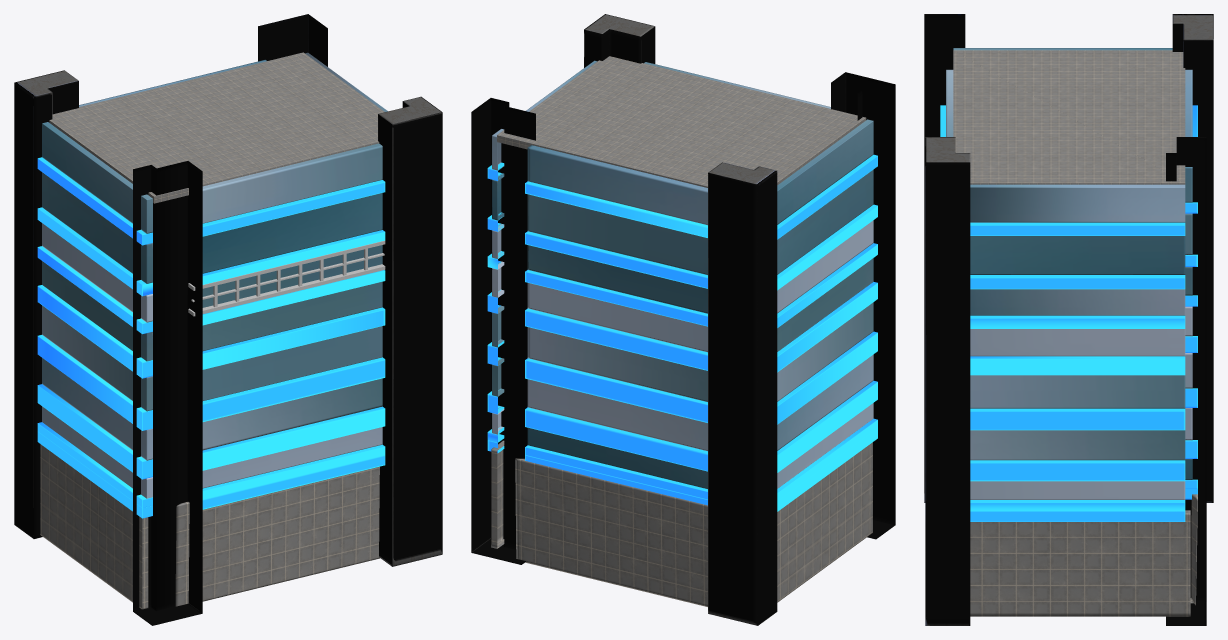
The model's file is building_test.fbx.
3 renders of one model, left to right at view 1: azimuth 30°, elevation 25°; view 2: azimuth 150°, elevation 25°; view 3: azimuth 270°, elevation 25°, orthographic. The views are drawn at different scales.
Parts seen in each view (by area): view 1: pillars, windows, neon_base, ground_area, roof, window_frame.001; view 2: pillars, windows, neon_base, ground_area, roof; view 3: windows, pillars, roof, neon_base, ground_area.
Boxes of the visible parts, <box> form: pillars: <box>14,14,442,625</box>; windows: <box>42,52,387,498</box>; neon_base: <box>37,157,385,518</box>; ground_area: <box>40,444,379,609</box>; roof: <box>49,52,384,203</box>; window_frame.001: <box>188,240,385,316</box>; pillars: <box>471,14,895,625</box>; windows: <box>492,60,873,488</box>; neon_base: <box>487,154,877,511</box>; ground_area: <box>491,440,872,606</box>; roof: <box>497,56,866,187</box>; windows: <box>946,48,1192,499</box>; pillars: <box>924,14,1213,625</box>; roof: <box>953,50,1185,184</box>; neon_base: <box>940,105,1197,521</box>; ground_area: <box>970,494,1197,616</box>.
Size of the model in its own units: 1212 by 1769 by 997.
